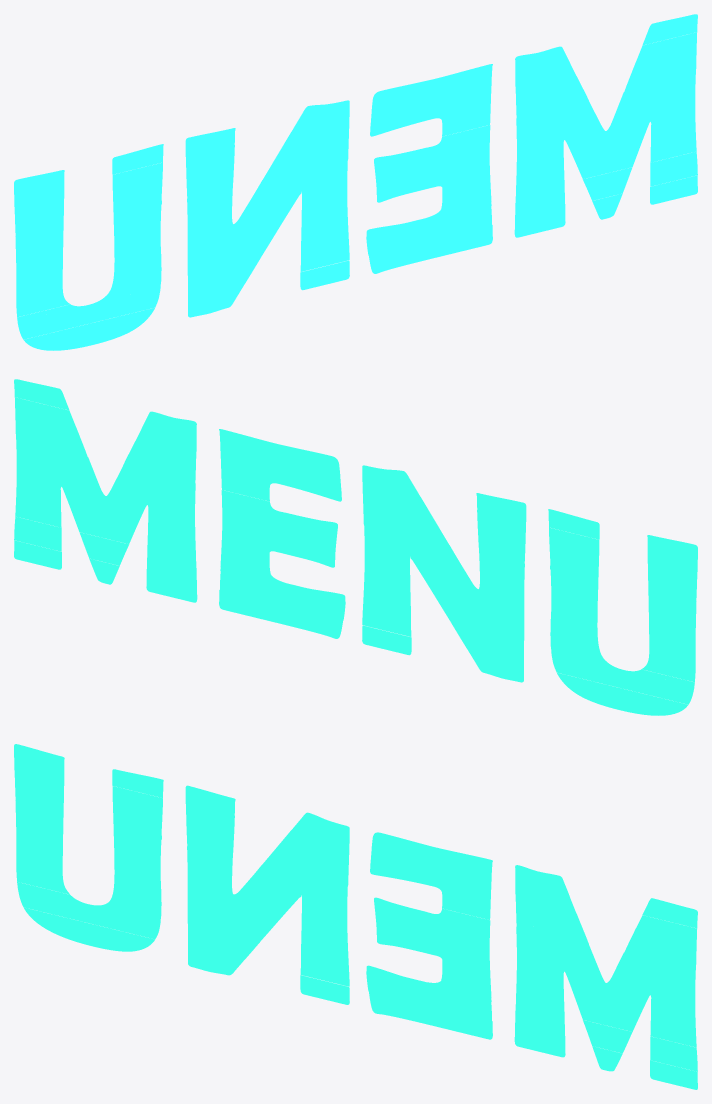
Rendered from menu.glb.
The picture shows the model from 3 angles, top to bottom: view 1: azimuth 30°, elevation 25°; view 2: azimuth 150°, elevation 25°; view 3: azimuth 330°, elevation 25°; orthographic projection.
Visible parts, largest first — view 1: menumove; view 2: menumove; view 3: menumove.
Part boxes in pixels (<box>): menumove: <box>14,14,697,350</box>; menumove: <box>14,379,697,715</box>; menumove: <box>14,744,697,1089</box>.
Bounding box in the file's own units: 0.9047 × 0.2355 × 1.47e-07.
